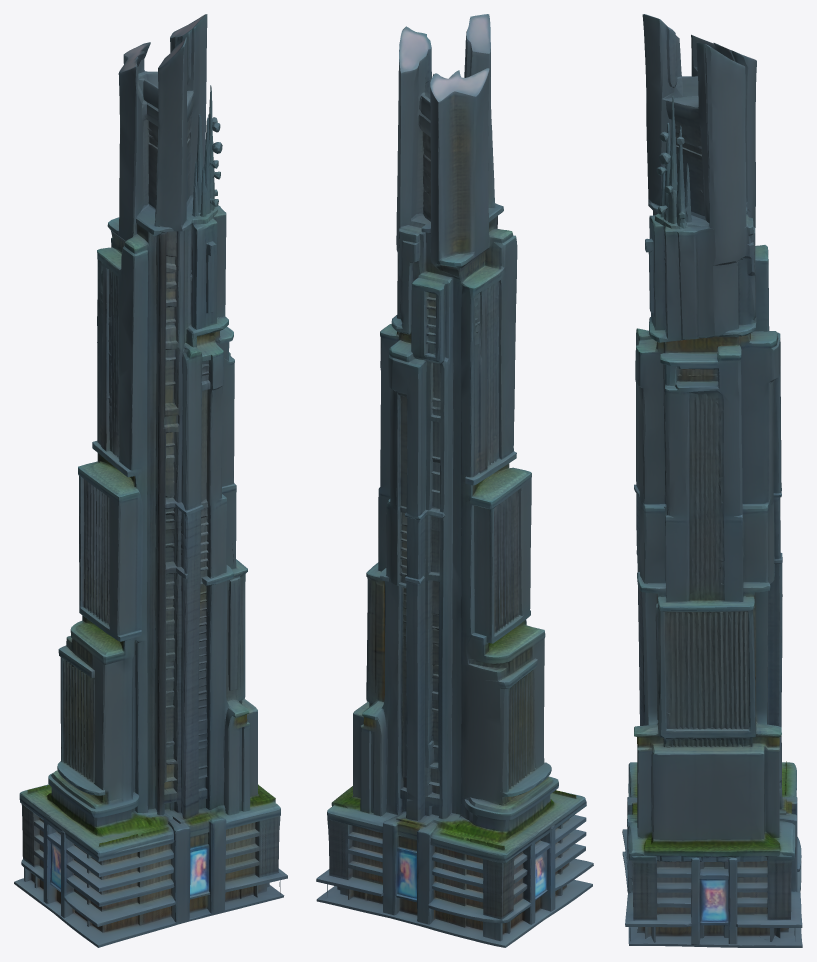
File: source.glb
The picture shows the model from 3 angles, left to right: view 1: azimuth 30°, elevation 25°; view 2: azimuth 150°, elevation 25°; view 3: azimuth 270°, elevation 25°; orthographic projection. The views are drawn at different scales.
Visible parts, largest first — view 1: model; view 2: model; view 3: model.
Part boxes in pixels (x1,y1,x2,y2): model: [14, 14, 287, 947]; model: [316, 14, 593, 947]; model: [622, 14, 802, 947].
Size of the model in its own units: 0.4433 by 1.9 by 0.3495.
Materials: 1 (1 with a texture image).
